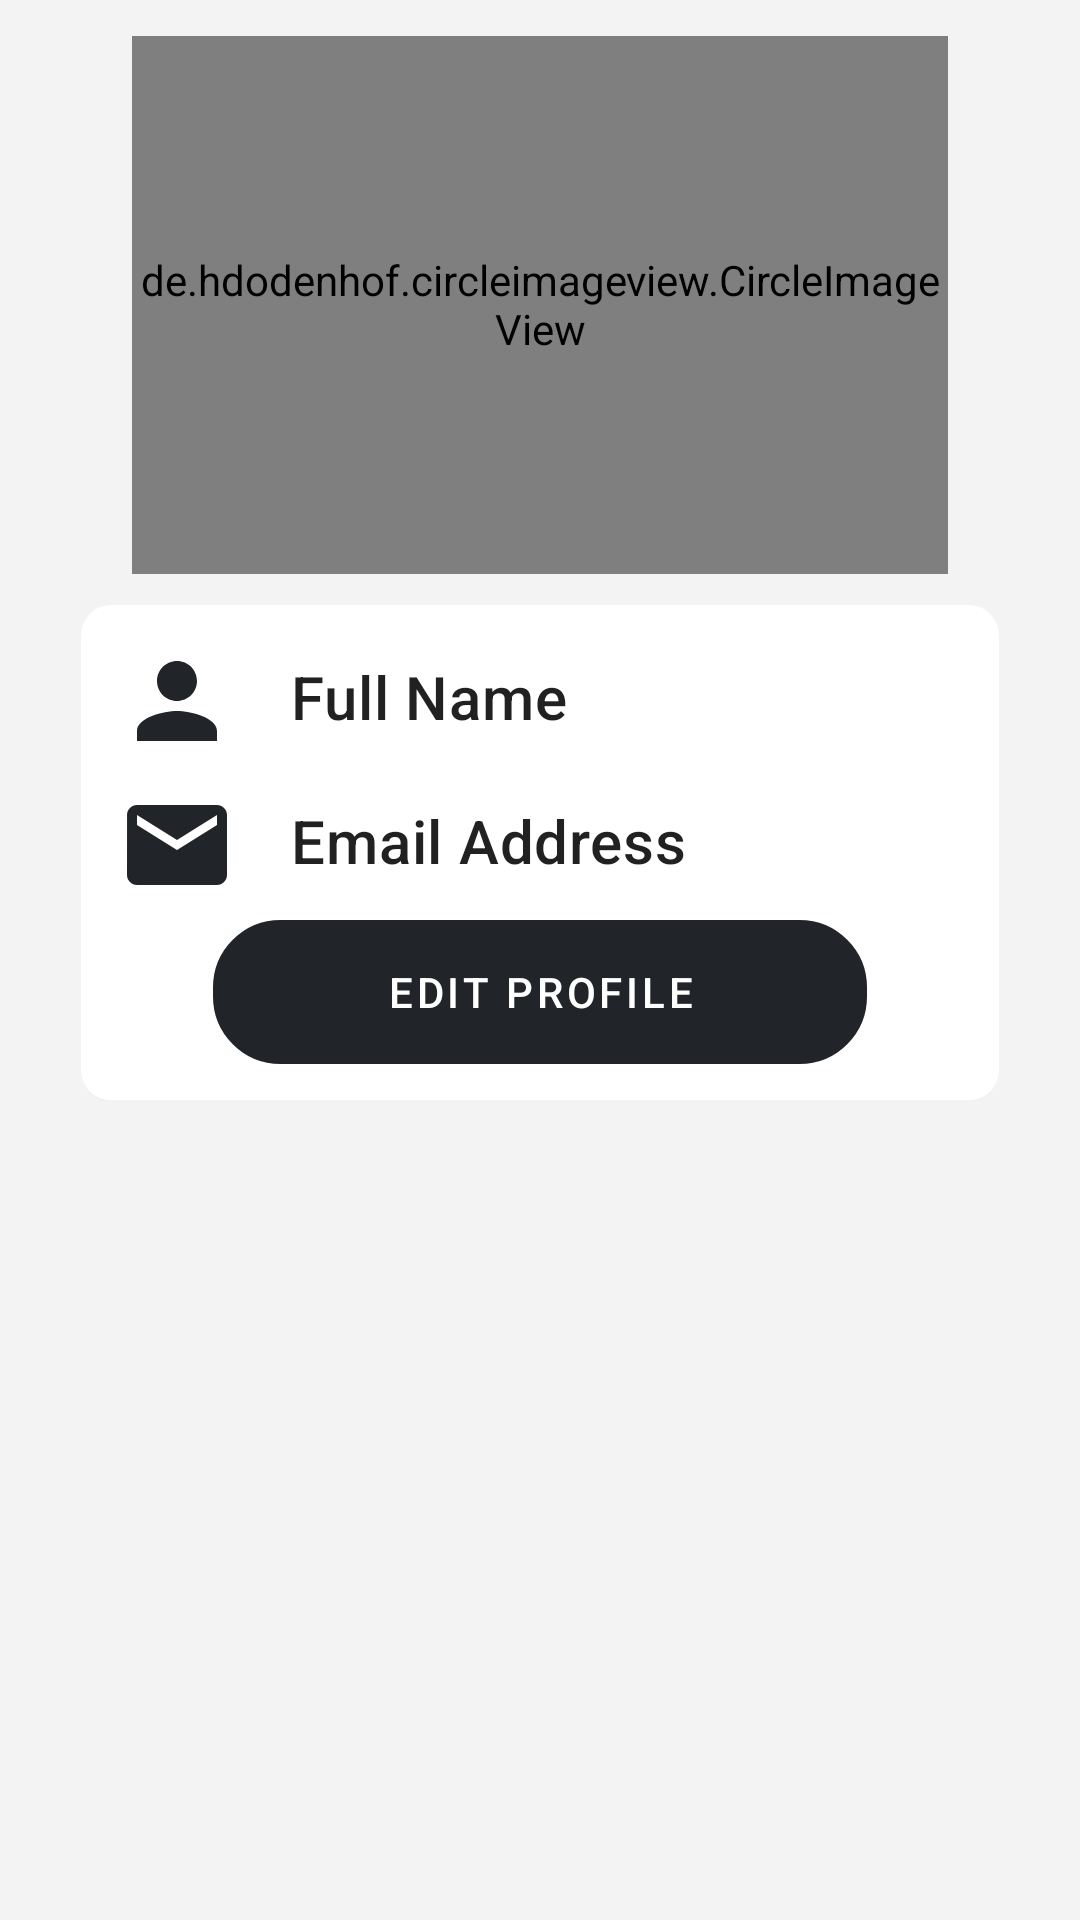

Where to tap for icons on this 1080*1920 app screen, as point (x, y):
person: point (177, 701)
